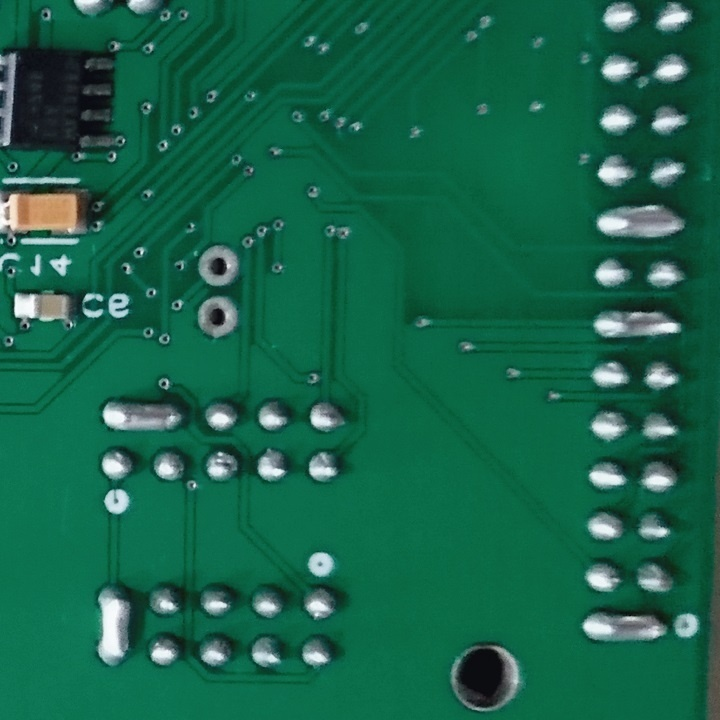F: (197, 293, 239, 343), (197, 244, 240, 287)
P: (579, 604, 670, 649), (593, 198, 688, 241), (589, 303, 687, 343), (94, 575, 134, 672), (98, 395, 187, 435)
